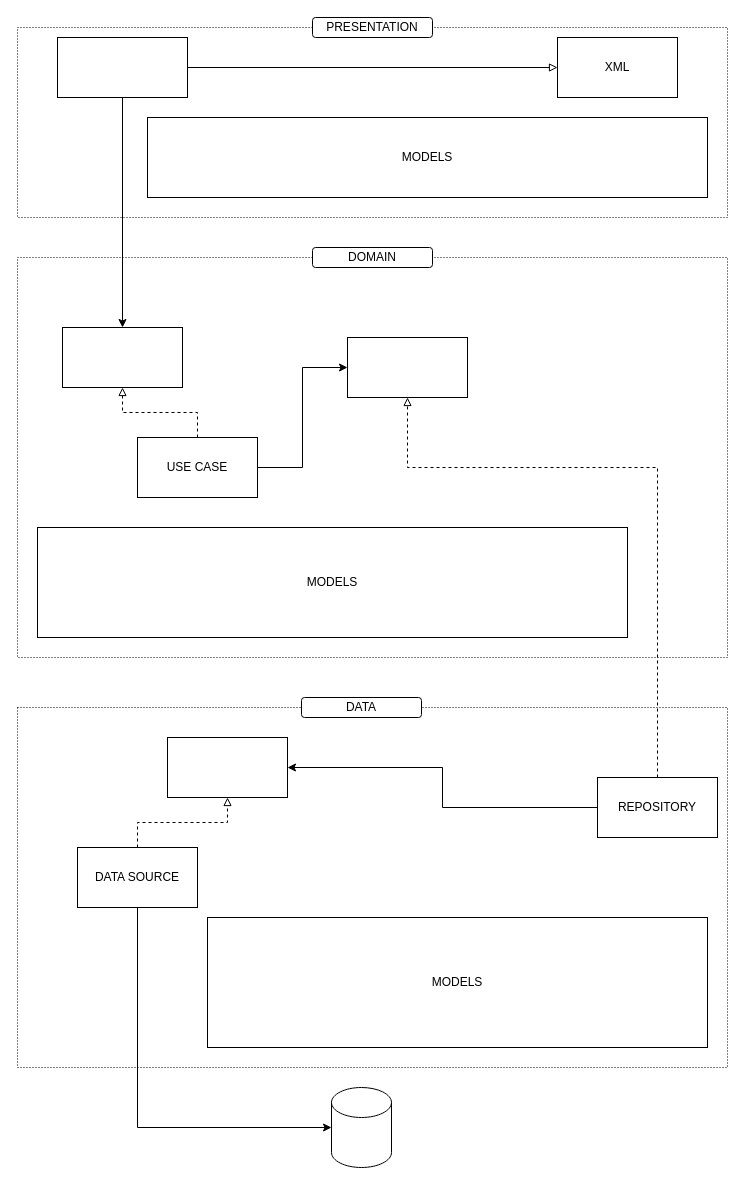
Some shapes in this 745 by 1185 pixel diagram are drawn without their labels. The box of each missing label's shape, as (x1, y1, x2, y2) in pixels:
ACTIVITY /FRAGMENT: (56, 36, 188, 98)
DB: (330, 1086, 392, 1168)
INTERFACE DATA SOURCE: (166, 736, 288, 798)
INTERFACE REPOSITORY: (346, 336, 468, 398)
INTERFACE USE CASE: (62, 326, 182, 388)
